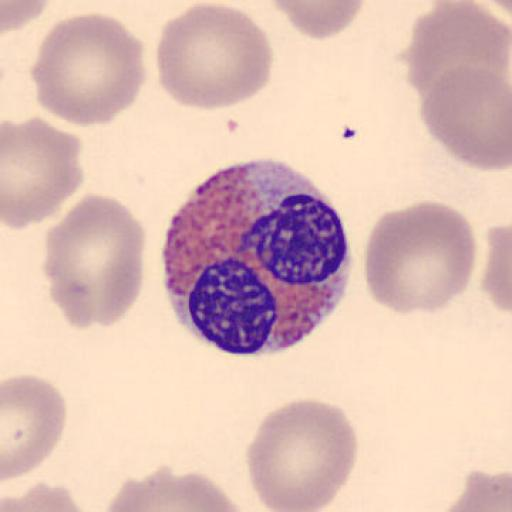RBC: (42, 192, 147, 330), (31, 10, 147, 128), (243, 396, 360, 512), (154, 1, 274, 112), (364, 200, 478, 316), (407, 0, 512, 109), (418, 64, 512, 172), (2, 114, 86, 230), (363, 204, 439, 316), (2, 374, 68, 482), (101, 468, 249, 512), (267, 0, 366, 41), (438, 468, 512, 512), (480, 220, 512, 318), (438, 0, 512, 42), (2, 479, 93, 512), (0, 0, 53, 34)
WBC: (162, 157, 351, 358)
